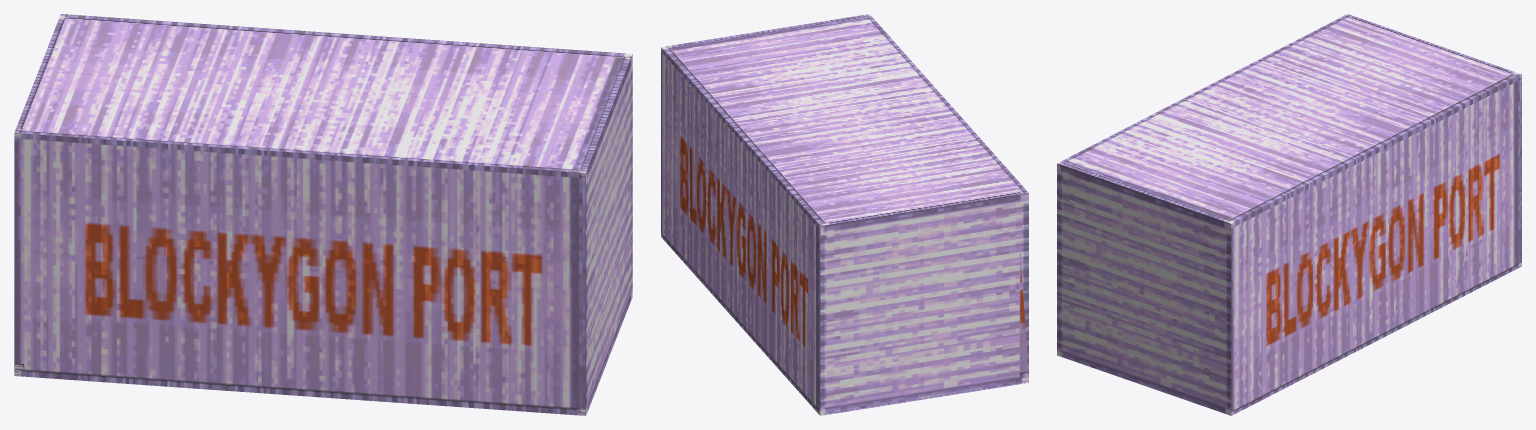
File: BLOCKYGON_WHITE CONTAINER(CLOSED).fbx
3 views of the same model, side by side, from view 1: azimuth 30°, elevation 25°; view 2: azimuth 150°, elevation 25°; view 3: azimuth 270°, elevation 25° (orthographic). The views are drawn at different scales.
Visible parts, largest first — view 1: BLOCKYGON_WHITE_CONTAINER_CLOSED_; view 2: BLOCKYGON_WHITE_CONTAINER_CLOSED_; view 3: BLOCKYGON_WHITE_CONTAINER_CLOSED_.
Part boxes in pixels (x1,y1,x2,y2): BLOCKYGON_WHITE_CONTAINER_CLOSED_: (14,14,632,415); BLOCKYGON_WHITE_CONTAINER_CLOSED_: (661,14,1028,415); BLOCKYGON_WHITE_CONTAINER_CLOSED_: (1057,14,1521,415).
Bounding box in the file's own units: 479 × 204 × 448.
